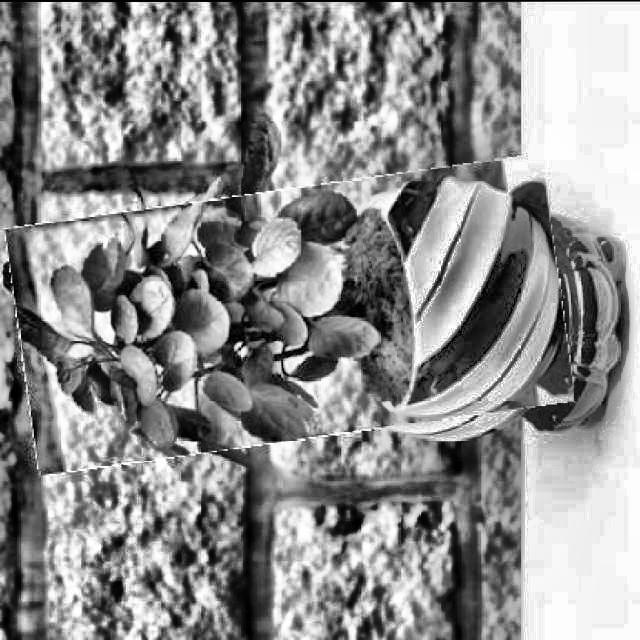plants: (11, 170, 568, 455)
